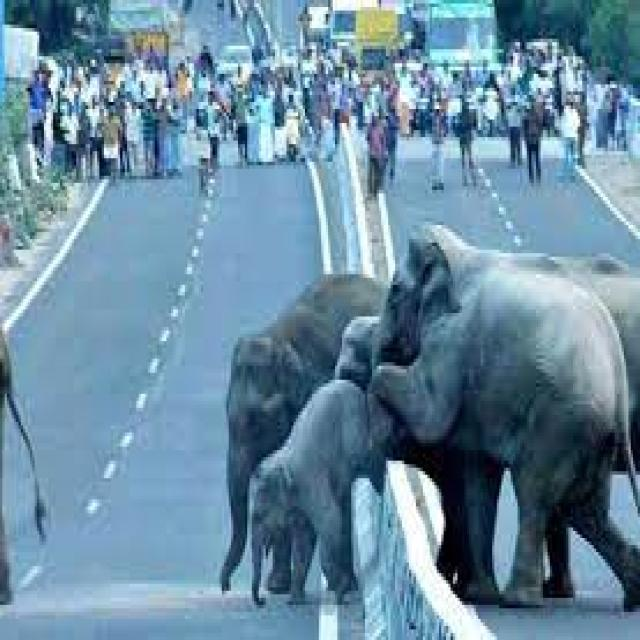Elephant: (373, 204, 640, 621), (214, 274, 384, 640), (249, 373, 388, 616)
